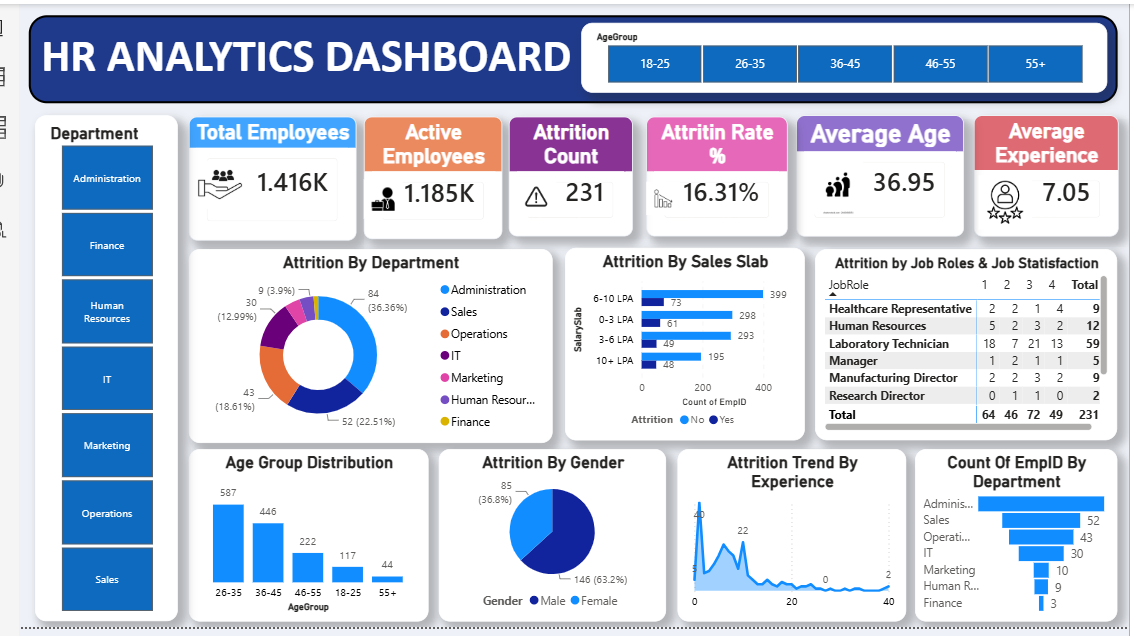

The dashboard page shown, as its layout file describes it:
{"tool":"powerbi","page":{"name":"HR Analytics Dashboard","canvas":[1280,720],"ordinal":0},"visuals":[{"type":"textbox","box":[10.7,12.5,1256.5,101.4],"z":0},{"type":"cardVisual","title":"Total Employees","fields":{"Data":["CountNonNull(HR_Analytics-4.EmpID)"]},"box":[194.8,129.8,193.3,142.8],"z":1000},{"type":"cardVisual","title":"Active Employees","fields":{"Data":["CountNonNull(HR_Analytics-4.EmpID)"]},"box":[396.8,129.8,160.1,141.4],"z":2000},{"type":"cardVisual","title":"Average Experience","fields":{"Data":["Avg(HR_Analytics-4.YearsatCompany)"]},"box":[1100.8,128.4,167.4,139.9],"z":3000},{"type":"cardVisual","title":"Average Age","fields":{"Data":["Avg(HR_Analytics-4.Age)"]},"box":[896,128.4,193.3,139.9],"z":4000},{"type":"cardVisual","title":"Attritin Rate %","fields":{"Data":["HR_Analytics-4.Attritin Rate %"]},"box":[722.8,129.8,163,138.5],"z":5000},{"type":"cardVisual","title":"Attrition Count","fields":{"Data":["Sum(HR_Analytics-4.AtritionCount)"]},"box":[564.1,129.8,142.8,138.5],"z":6000},{"type":"image","box":[1102.3,197.7,69.3,62],"z":7000},{"type":"image","box":[722.8,194.8,39,59.2],"z":8000},{"type":"image","box":[911.8,180.3,66.4,62],"z":9000},{"type":"image","box":[396.8,194.8,44.7,60.6],"z":10000},{"type":"image","box":[567,199.1,57.7,46.2],"z":11000},{"type":"image","box":[191.9,180.3,77.9,56.3],"z":12000},{"type":"donutChart","title":"Attrition By Department","fields":{"Category":["HR_Analytics-4.Department"],"Y":["Sum(HR_Analytics-4.AtritionCount)"]},"box":[194.8,282.8,419.8,223.6],"z":13000},{"type":"clusteredBarChart","title":"Attrition By Sales Slab","fields":{"Category":["HR_Analytics-4.SalarySlab"],"Y":["CountNonNull(HR_Analytics-4.EmpID)"],"Series":["HR_Analytics-4.Attrition"]},"box":[629,281.3,277,222.2],"z":14000},{"type":"pivotTable","title":"Attrition by Job Roles & Job Statisfaction","fields":{"Rows":["HR_Analytics-4.JobRole"],"Columns":["HR_Analytics-4.JobSatisfaction"],"Values":["Sum(HR_Analytics-4.AtritionCount)"]},"box":[917.6,282.8,349.1,220.7],"z":15000},{"type":"columnChart","title":"Age Group Distribution","fields":{"Category":["HR_Analytics-4.AgeGroup"],"Y":["Sum(HR_Analytics-4.EmployeeCount)"]},"box":[194.8,513.6,277,199.1],"z":15001},{"type":"pieChart","title":"Attrition By Gender","fields":{"Category":["HR_Analytics-4.Gender"],"Y":["Sum(HR_Analytics-4.AtritionCount)"]},"box":[483.3,513.6,262.6,199.1],"z":15002},{"type":"areaChart","title":"Attrition Trend By Experience","fields":{"Category":["HR_Analytics-4.TotalExperience(Years)"],"Y":["Sum(HR_Analytics-4.AtritionCount)"]},"box":[758.9,513.6,264,199.1],"z":15003},{"type":"funnel","title":"Count Of EmpID By Department","fields":{"Category":["HR_Analytics-4.Department"],"Y":["Sum(HR_Analytics-4.AtritionCount)"]},"box":[1033,513.6,233.7,199.1],"z":15004},{"type":"slicer","fields":{"Values":["HR_Analytics-4.Department"]},"box":[17.3,128.4,164.5,584.3],"z":15005},{"type":"slicer","fields":{"Values":["HR_Analytics-4.AgeGroup"]},"box":[647.8,21.6,607.4,80.8],"z":15006}]}

Visuals, with their boxes in screenshot pixels (x1, y1, x2, y2), scaled from the page's 1280x720 canvas onto the 1134x636 screenshot:
textbox: box=[9, 11, 1123, 101]
"Total Employees" cardVisual: box=[173, 115, 344, 241]
"Active Employees" cardVisual: box=[352, 115, 493, 240]
"Average Experience" cardVisual: box=[975, 113, 1124, 237]
"Average Age" cardVisual: box=[794, 113, 965, 237]
"Attritin Rate %" cardVisual: box=[640, 115, 785, 237]
"Attrition Count" cardVisual: box=[500, 115, 626, 237]
image: box=[977, 175, 1038, 229]
image: box=[640, 172, 675, 224]
image: box=[808, 159, 867, 214]
image: box=[352, 172, 391, 226]
image: box=[502, 176, 553, 217]
image: box=[170, 159, 239, 209]
"Attrition By Department" donutChart: box=[173, 250, 544, 447]
"Attrition By Sales Slab" clusteredBarChart: box=[557, 248, 803, 445]
"Attrition by Job Roles & Job Statisfaction" pivotTable: box=[813, 250, 1122, 445]
"Age Group Distribution" columnChart: box=[173, 454, 418, 630]
"Attrition By Gender" pieChart: box=[428, 454, 661, 630]
"Attrition Trend By Experience" areaChart: box=[672, 454, 906, 630]
"Count Of EmpID By Department" funnel: box=[915, 454, 1122, 630]
slicer - HR_Analytics-4.Department: box=[15, 113, 161, 630]
slicer - HR_Analytics-4.AgeGroup: box=[574, 19, 1112, 90]
